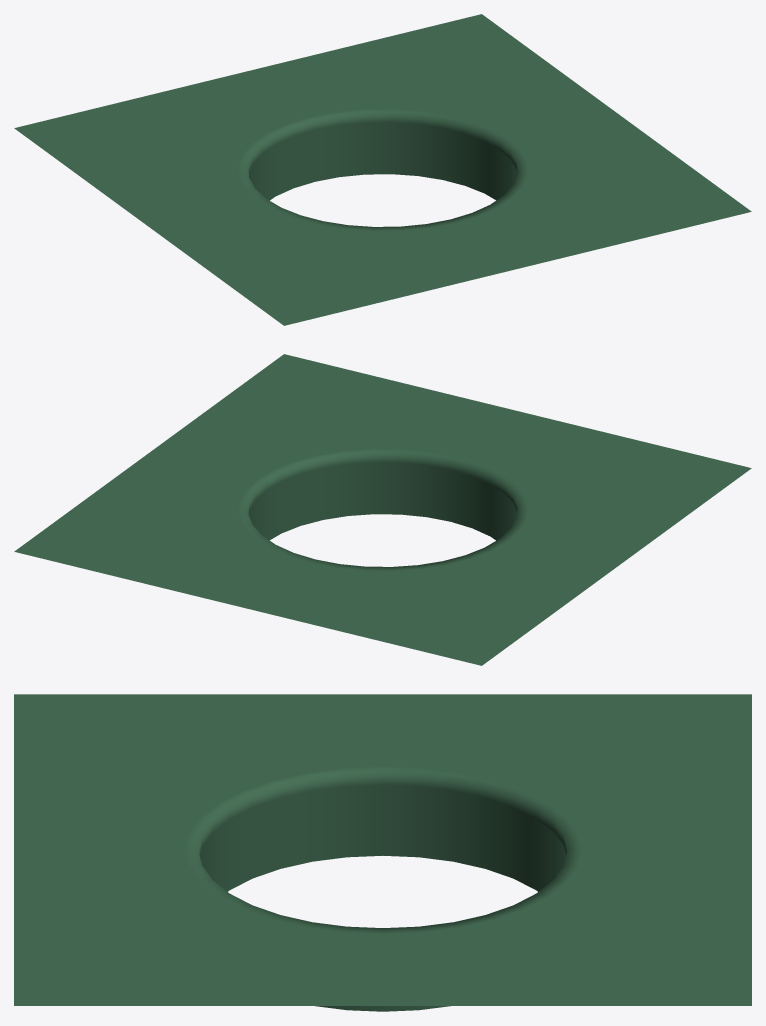
File: table_pocket_center_a.fbx
The picture shows the model from 3 angles, top to bottom: view 1: azimuth 30°, elevation 25°; view 2: azimuth 150°, elevation 25°; view 3: azimuth 270°, elevation 25°; orthographic projection. The views are drawn at different scales.
Parts seen in each view (by area): view 1: lod0; view 2: lod0; view 3: lod0.
Boxes of the visible parts, left/top/right/bottom form: lod0: left=14, top=14, right=751, bottom=325; lod0: left=14, top=354, right=751, bottom=665; lod0: left=14, top=694, right=751, bottom=1011.
Size of the model in its own units: 8 by 1 by 8.
